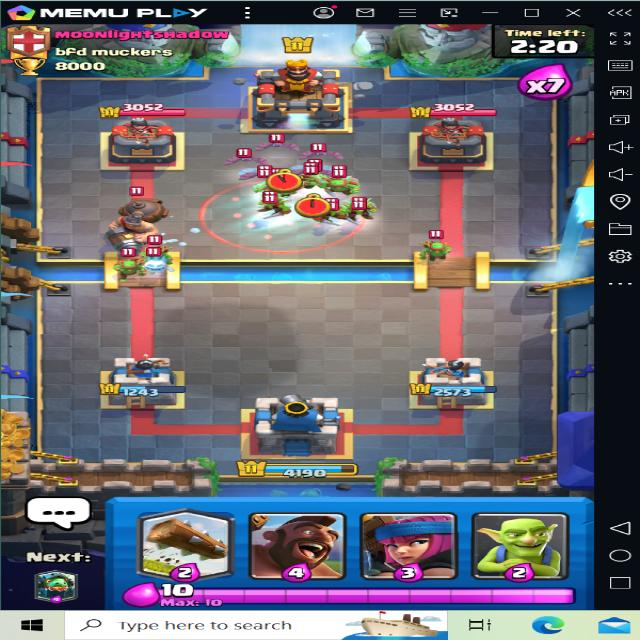bats: (300, 140, 353, 165), (254, 129, 303, 155), (219, 147, 266, 168)
clone: (196, 178, 366, 248)
ice-spirit: (140, 246, 187, 278)
mighty-miner: (104, 186, 180, 256)
spear-goblin: (114, 249, 142, 282), (419, 232, 448, 261)
